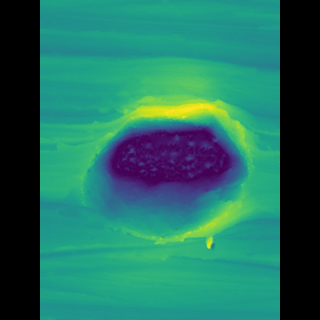Loch: (88, 84, 240, 245)
